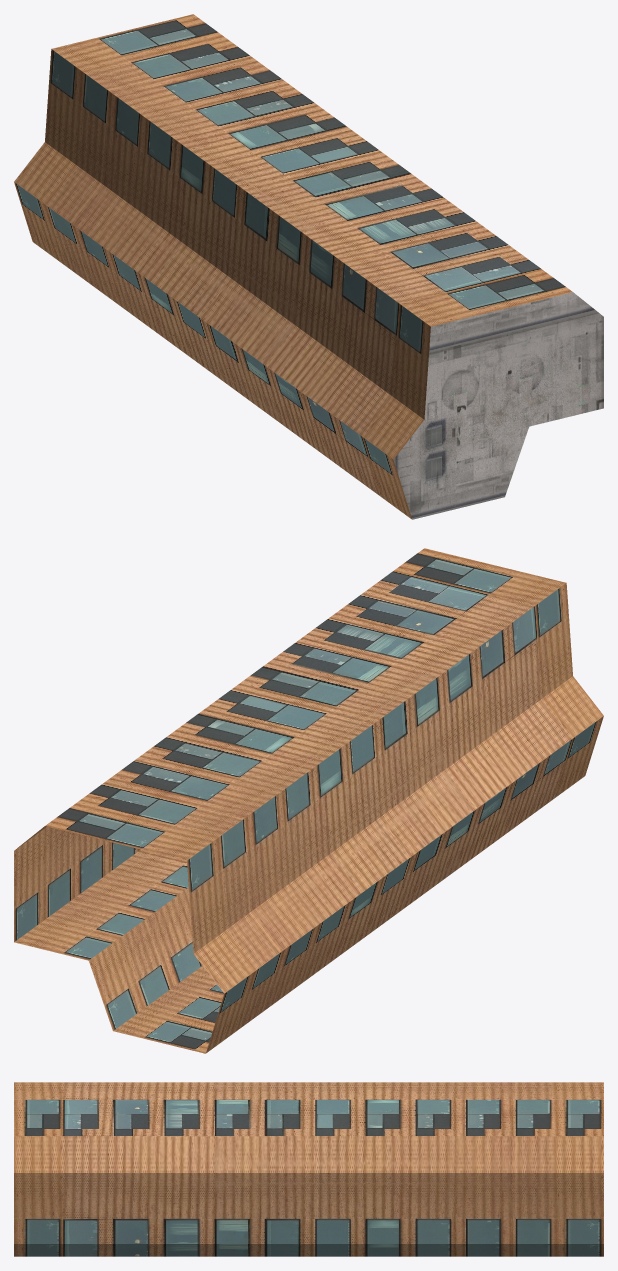
Rendered from building-13.obj.
3 renders of one model, top to bottom at view 1: azimuth 30°, elevation 25°; view 2: azimuth 150°, elevation 25°; view 3: azimuth 270°, elevation 25°, orthographic. The views are drawn at different scales.
Bounding box in the file's own units: 10.22 × 8.75 × 31.94.
